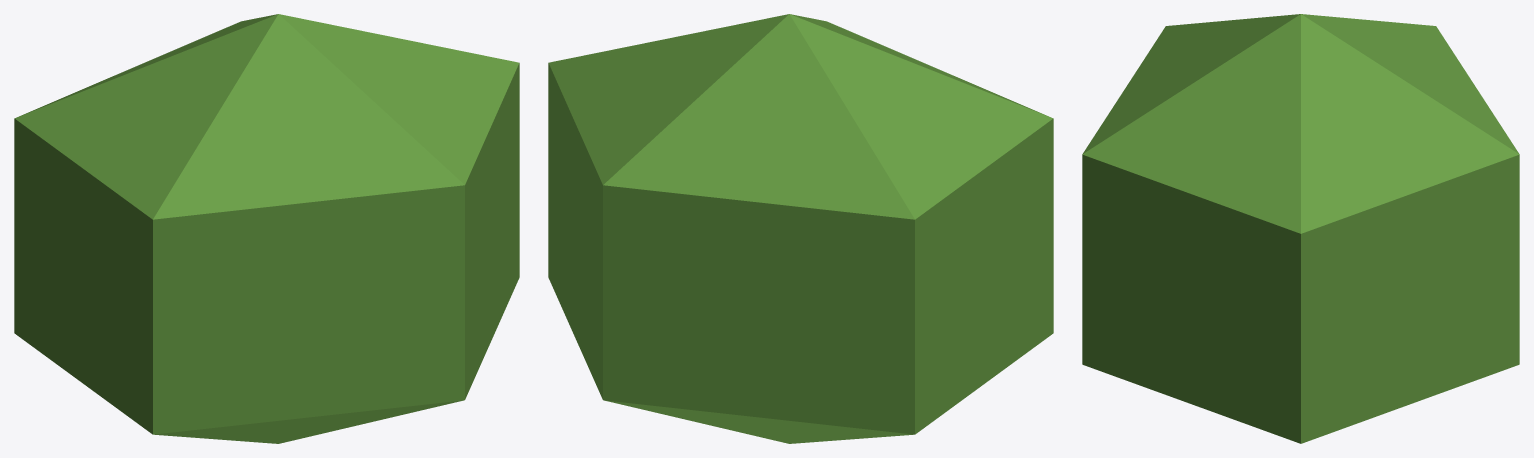
The model's file is bush_round_lod2.obj.
3 renders of one model, left to right at view 1: azimuth 30°, elevation 25°; view 2: azimuth 150°, elevation 25°; view 3: azimuth 270°, elevation 25°, orthographic. The views are drawn at different scales.
Visible parts, largest first — view 1: bush_round_lod2; view 2: bush_round_lod2; view 3: bush_round_lod2.
Part boxes in pixels (left/top/right/bottom): bush_round_lod2: left=14, top=14, right=519, bottom=443; bush_round_lod2: left=548, top=14, right=1053, bottom=443; bush_round_lod2: left=1082, top=14, right=1519, bottom=443.
Size of the model in its own units: 1.02 by 0.96 by 0.906.
1 material, 1 textured.
